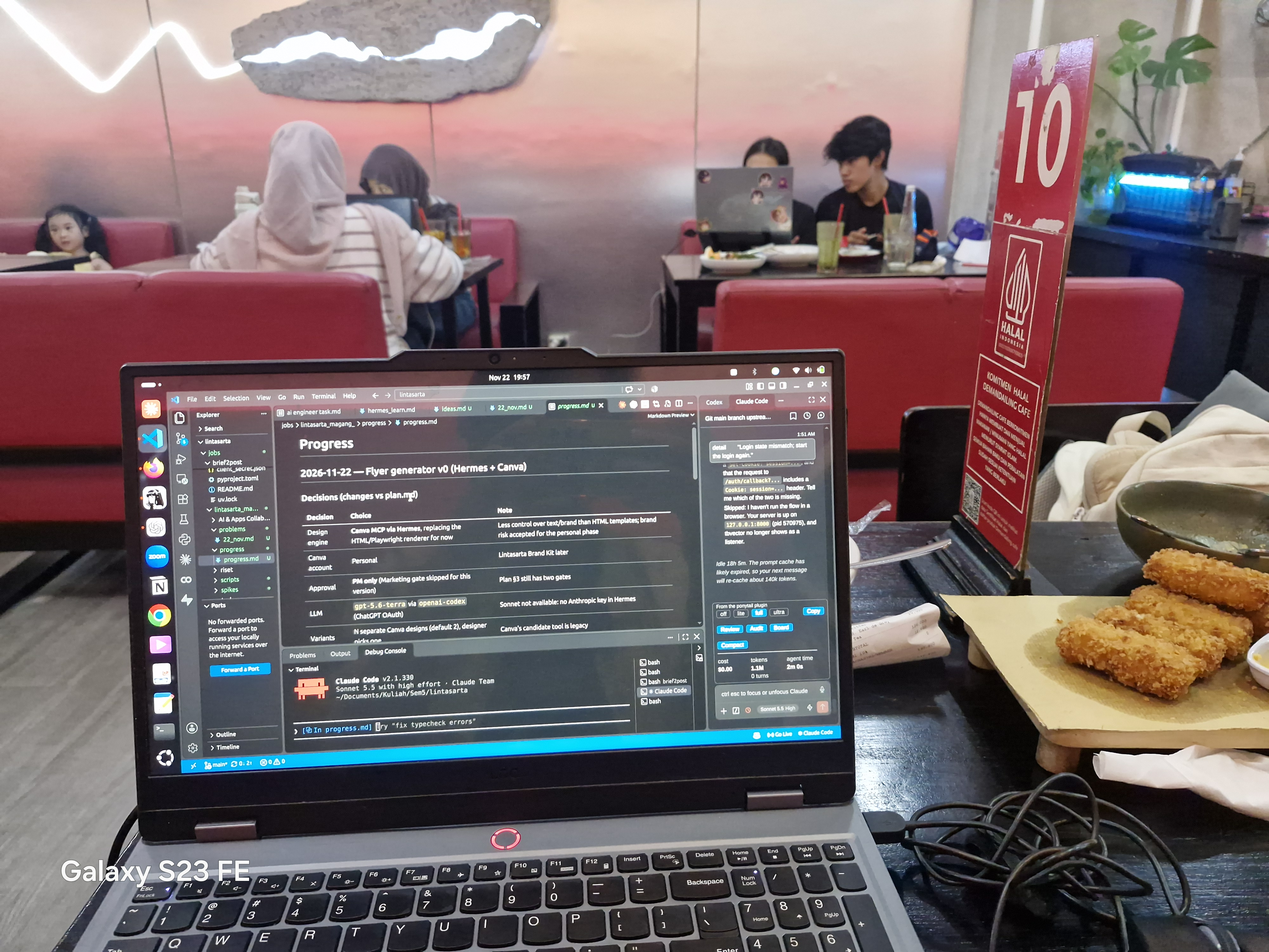couch: (0, 271, 385, 524), (712, 277, 1183, 428)
cup: (816, 221, 843, 273)
dining table: (863, 495, 1268, 951), (661, 255, 897, 350)
food-other-merged: (1056, 549, 1268, 700)
laptop: (110, 351, 894, 951), (696, 164, 793, 237)
person: (190, 121, 463, 355), (815, 116, 937, 259), (743, 137, 815, 244), (359, 144, 436, 223), (33, 205, 112, 271)
potted plant: (1083, 19, 1215, 190)
wall-other-merged: (0, 0, 1268, 190)
